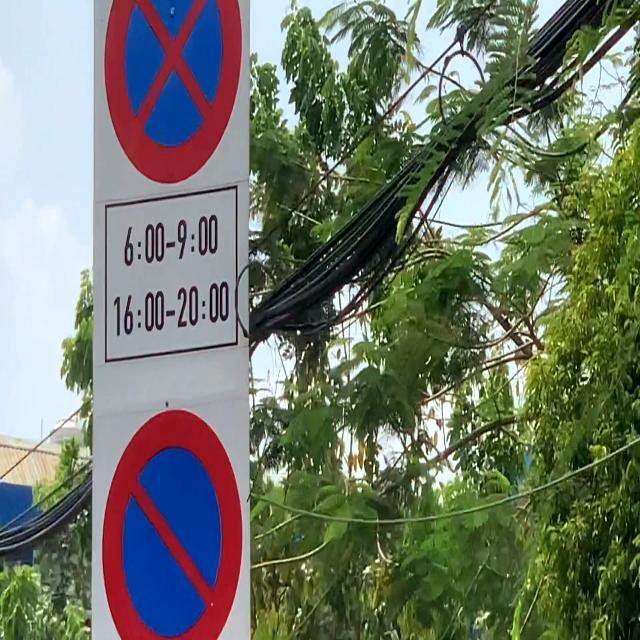P.130: (102, 0, 242, 185)
P.131a: (101, 406, 245, 640)
